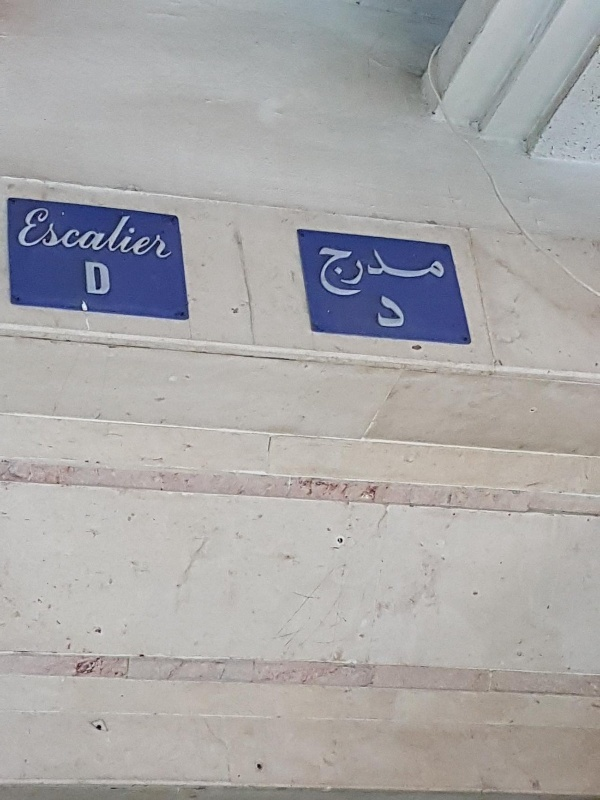text: (433, 246, 449, 299), (321, 246, 336, 299), (337, 246, 352, 299), (353, 246, 368, 299), (369, 246, 384, 299), (385, 246, 400, 299), (401, 246, 416, 299), (417, 246, 432, 299), (33, 208, 48, 259), (49, 208, 64, 259), (65, 208, 80, 259), (81, 208, 96, 259), (97, 208, 112, 259), (113, 208, 128, 259), (129, 208, 144, 259), (145, 208, 160, 259), (161, 208, 173, 259), (22, 208, 32, 259), (385, 294, 400, 328), (97, 261, 111, 297), (312, 246, 320, 299), (85, 261, 96, 297), (378, 294, 384, 328), (401, 294, 405, 328)
